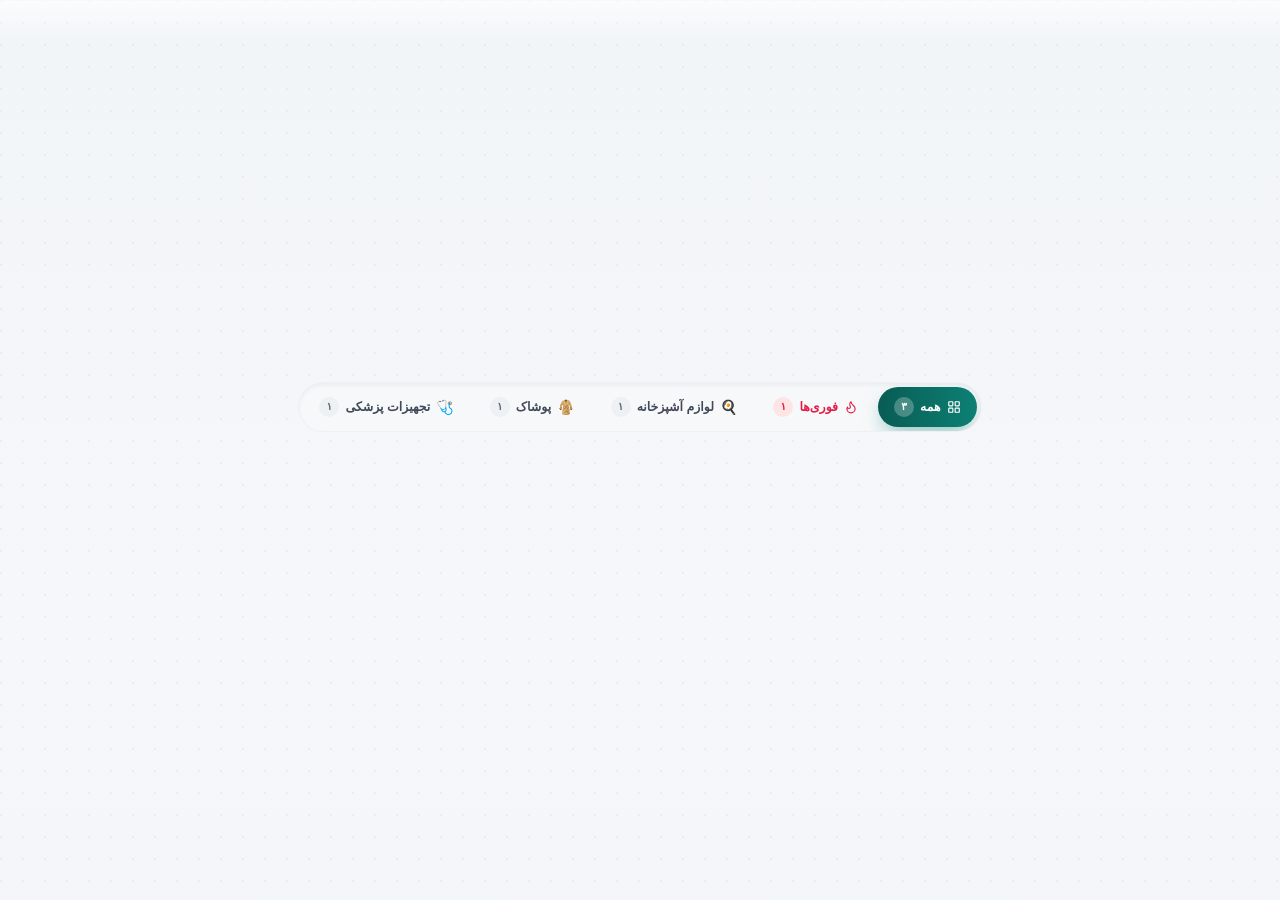
Test case: KindnessSection — تختهٔ نیاز v2 › تب «فوری‌ها» فقط کارت‌های اورژانسی را نگه می‌دارد
Click the tab "فوری‌ها ۱" at (816,407), box [757,387,874,427]
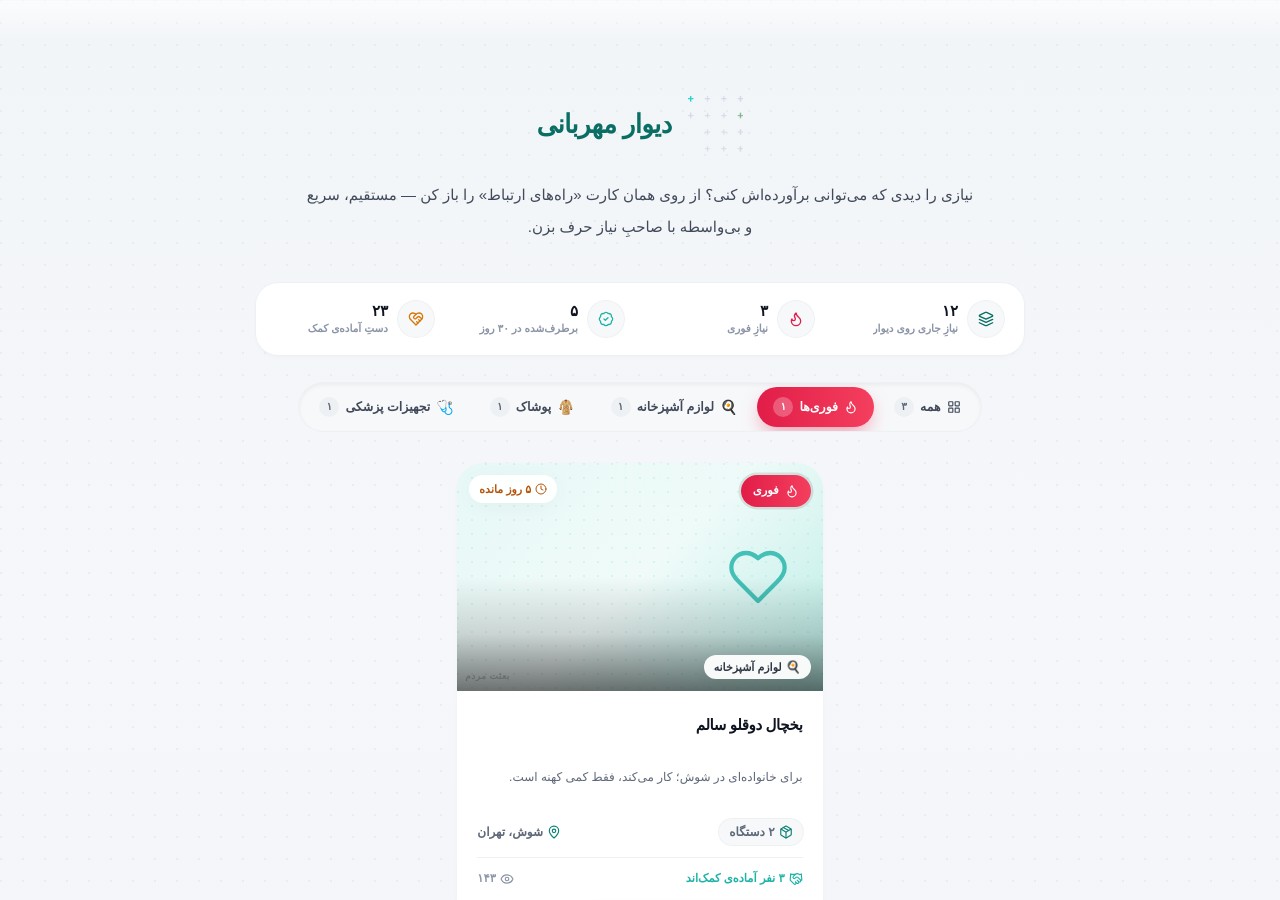
Expected: the link "یخچال دوقلو سالم" is shown, [696,716,803,733]
